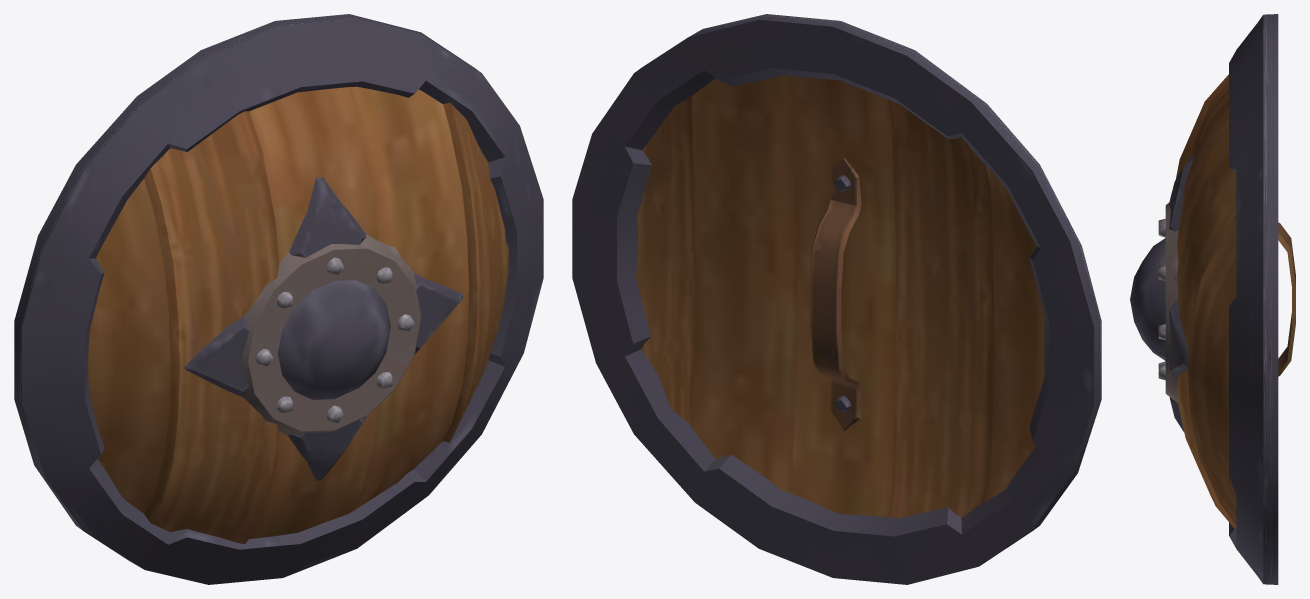
File: Shield_Wooden.gltf
The picture shows the model from 3 angles, left to right: view 1: azimuth 30°, elevation 25°; view 2: azimuth 150°, elevation 25°; view 3: azimuth 270°, elevation 25°; orthographic projection. The views are drawn at different scales.
Parts seen in each view (by area): view 1: Shield_Wooden; view 2: Shield_Wooden; view 3: Shield_Wooden.
Boxes of the visible parts, left/top/right/bottom form: Shield_Wooden: left=14, top=14, right=543, bottom=584; Shield_Wooden: left=572, top=14, right=1101, bottom=584; Shield_Wooden: left=1130, top=14, right=1295, bottom=584.
Bounding box in the file's own units: 0.6146 × 0.6209 × 0.1788.
Materials: 3 (3 with a texture image).
